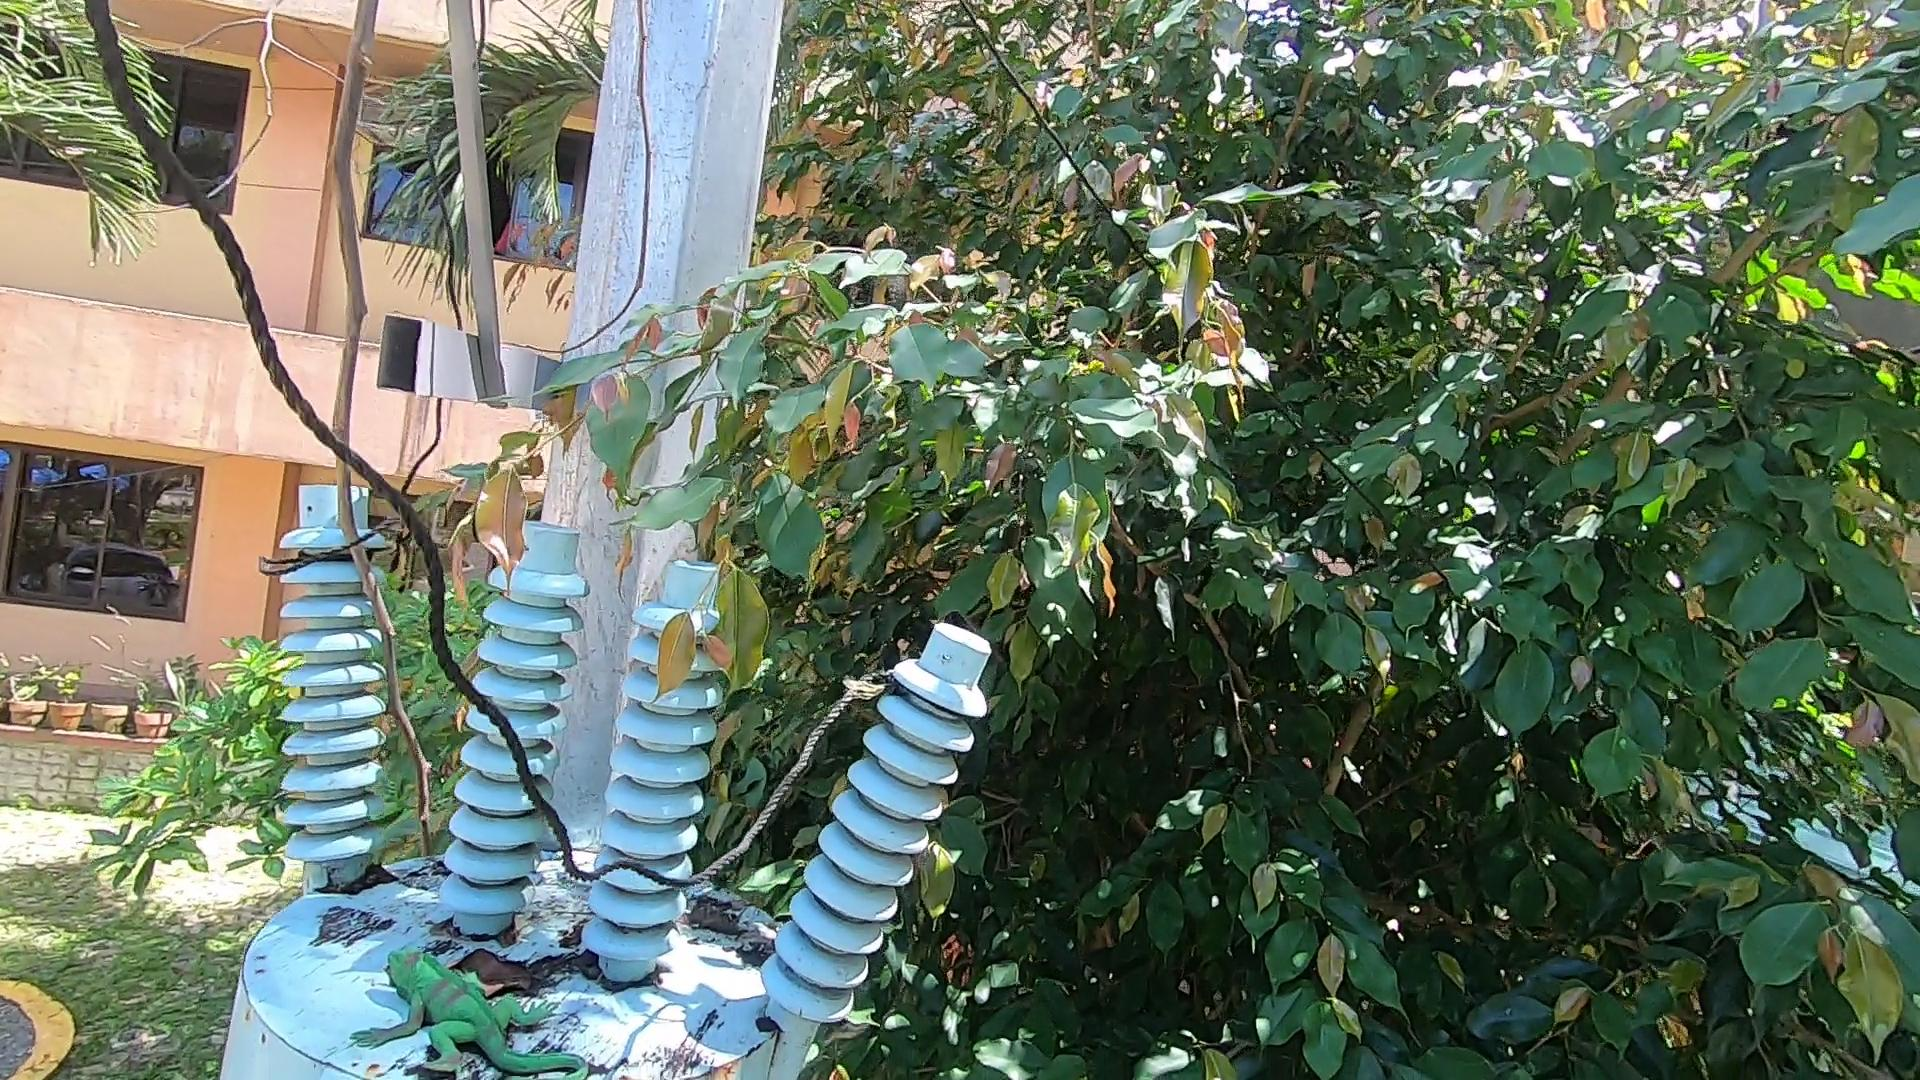branch with leaves: (448, 352, 808, 702)
leaf: (454, 935, 615, 986), (686, 899, 769, 969), (327, 864, 419, 898)
tree branch: (286, 7, 460, 862)
